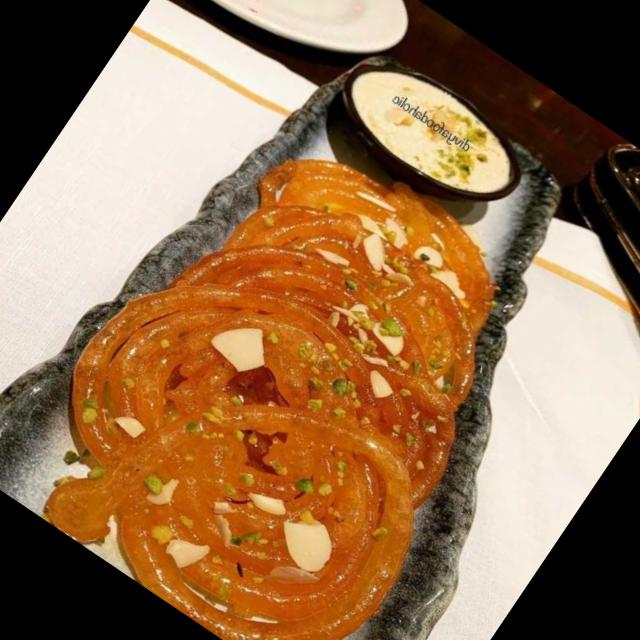jalebi: (0, 91, 547, 640)
